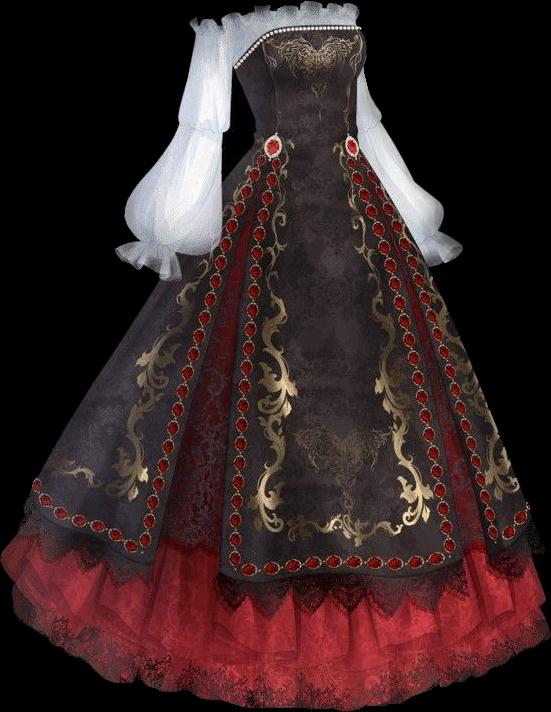Bodice: (222, 1, 366, 154)
Hemline: (216, 145, 470, 617), (12, 157, 270, 586), (355, 147, 544, 582), (2, 554, 549, 671), (10, 602, 550, 711)
Neckline: (230, 22, 359, 70), (222, 0, 359, 24)
Skirt: (1, 144, 550, 709)
Sleeve: (115, 17, 234, 280)
Sleeveline: (217, 24, 239, 74), (136, 235, 182, 258), (177, 120, 226, 140)
